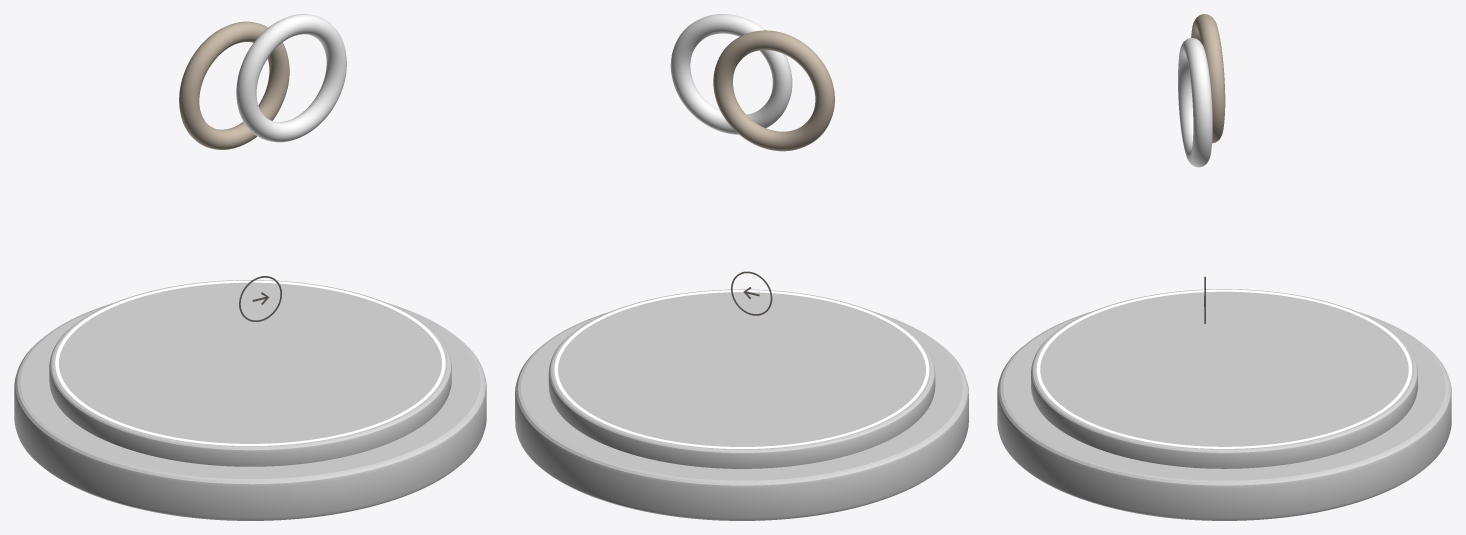
Rendered from crystal-approvals.glb.
3 views of the same model, side by side, from view 1: azimuth 30°, elevation 25°; view 2: azimuth 150°, elevation 25°; view 3: azimuth 270°, elevation 25° (orthographic). The views are drawn at different scales.
Parts seen in each view (by area): view 1: Crystal approvals | upper porcelain plinth, Crystal approvals | lower travertine plinth, Approvals | interlocking ring 2.001, Approvals | interlocking ring 1.001, Crystal approvals | concealed warm light seam; view 2: Crystal approvals | upper porcelain plinth, Crystal approvals | lower travertine plinth, Approvals | interlocking ring 1.001, Approvals | interlocking ring 2.001, Crystal approvals | concealed warm light seam; view 3: Crystal approvals | upper porcelain plinth, Crystal approvals | lower travertine plinth, Approvals | interlocking ring 2.001, Crystal approvals | concealed warm light seam, Approvals | interlocking ring 1.001.
Part boxes in pixels (bbox=[...]): Crystal approvals | upper porcelain plinth: bbox=[49, 280, 451, 466]; Crystal approvals | lower travertine plinth: bbox=[14, 303, 486, 520]; Approvals | interlocking ring 2.001: bbox=[236, 14, 346, 142]; Approvals | interlocking ring 1.001: bbox=[179, 21, 289, 149]; Crystal approvals | concealed warm light seam: bbox=[55, 280, 445, 445]; Crystal approvals | upper porcelain plinth: bbox=[548, 289, 935, 468]; Crystal approvals | lower travertine plinth: bbox=[515, 312, 968, 520]; Approvals | interlocking ring 1.001: bbox=[713, 30, 834, 151]; Approvals | interlocking ring 2.001: bbox=[670, 14, 792, 134]; Crystal approvals | concealed warm light seam: bbox=[554, 290, 929, 448]; Crystal approvals | upper porcelain plinth: bbox=[1031, 289, 1417, 468]; Crystal approvals | lower travertine plinth: bbox=[997, 312, 1451, 520]; Approvals | interlocking ring 2.001: bbox=[1178, 38, 1212, 167]; Crystal approvals | concealed warm light seam: bbox=[1036, 289, 1412, 448]; Approvals | interlocking ring 1.001: bbox=[1191, 14, 1225, 143].
Size of the model in its own units: 2.7 by 2.59 by 2.7.
